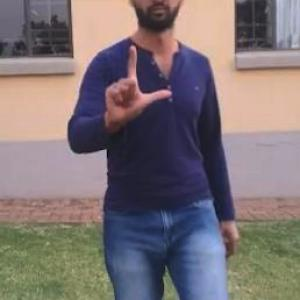land_hand: (98, 37, 176, 130)
